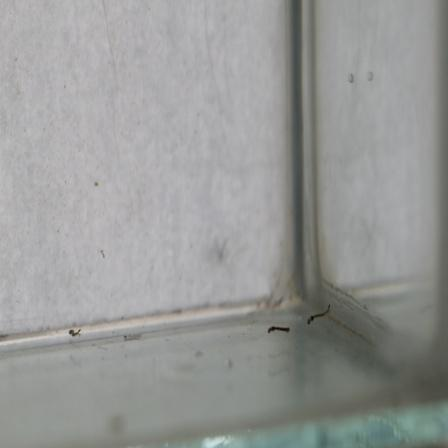Jentik-Nyamuk: (306, 299, 333, 328), (265, 320, 292, 337), (66, 323, 83, 340)
